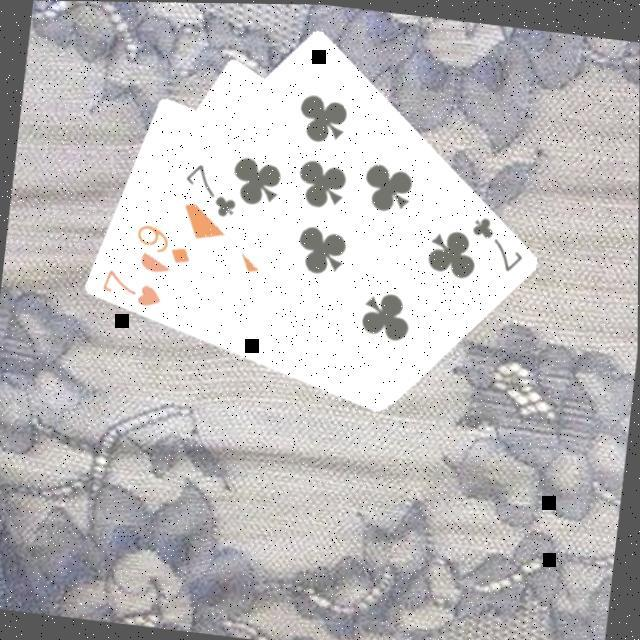7C: (462, 208, 528, 273), (176, 156, 242, 220)
7H: (94, 261, 166, 309)
9D: (127, 217, 194, 266)
